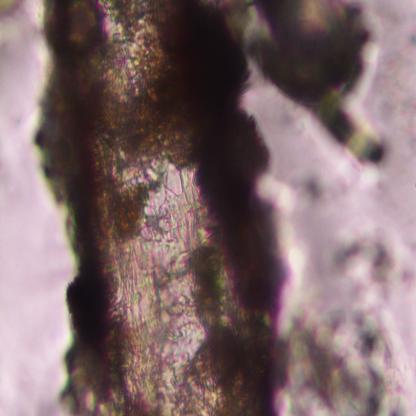Background material: (272, 300, 409, 416), (293, 96, 392, 174), (318, 228, 400, 298), (0, 0, 25, 31)
Diatom: (262, 0, 359, 103)
Microfibre: (43, 0, 273, 416)
